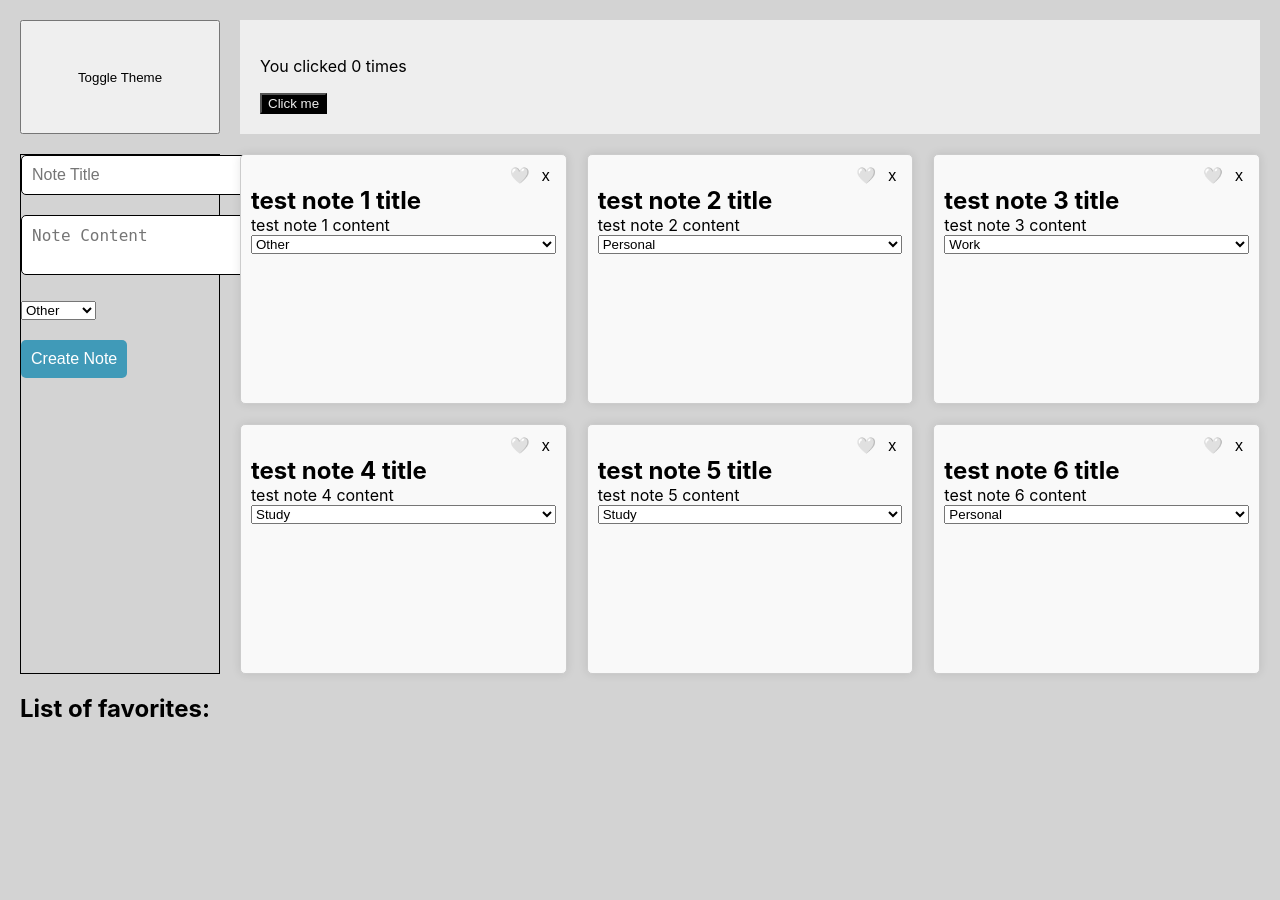
Test case: Update and Delete Notes › deletes a note
The width and height of the screenshot is (1280, 900).
In the field with placeholder "Note Title": (136, 175) [21, 155, 250, 195], type "New Note"
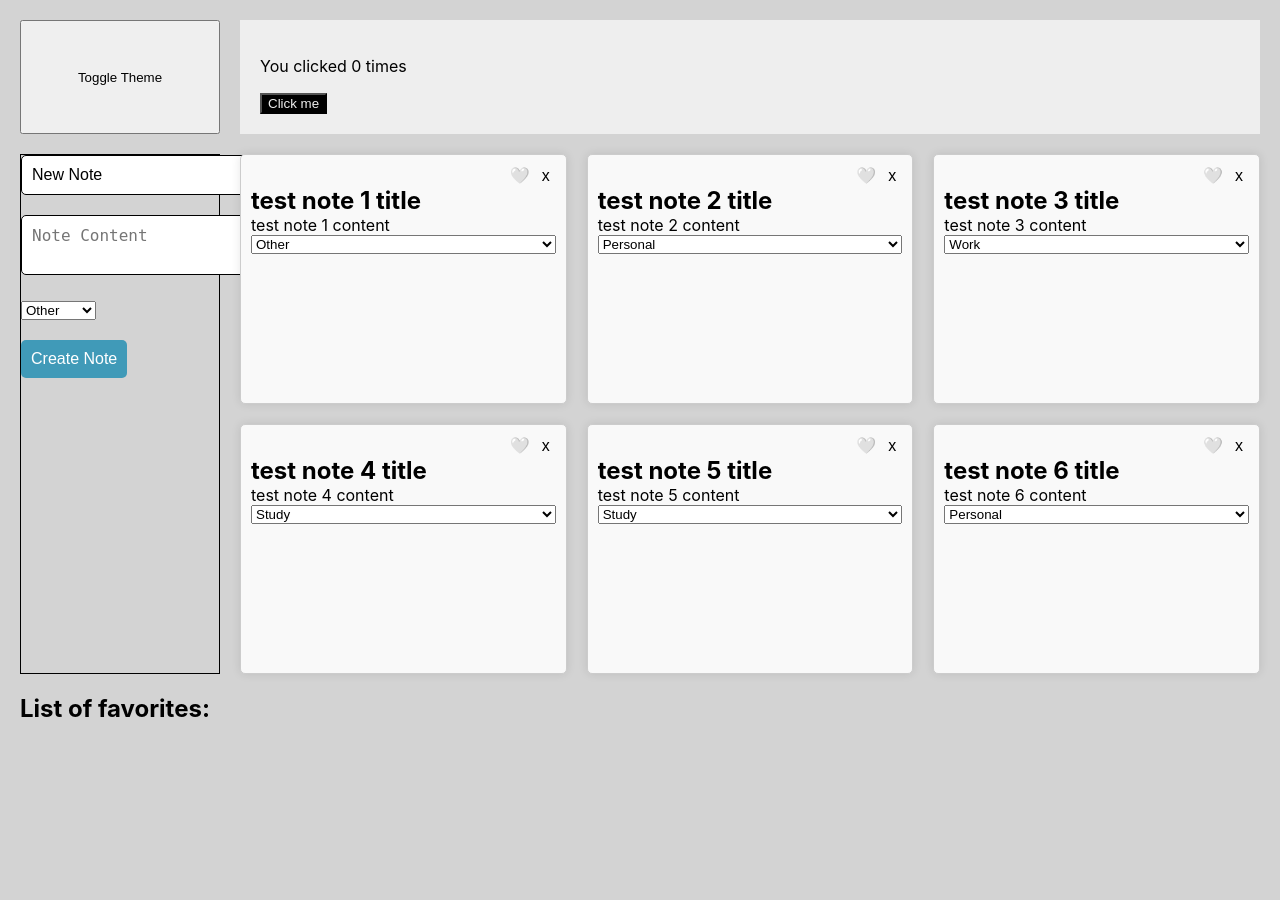
In the text box with placeholder "Note Content": (140, 245) [21, 215, 258, 275], type "Note content"
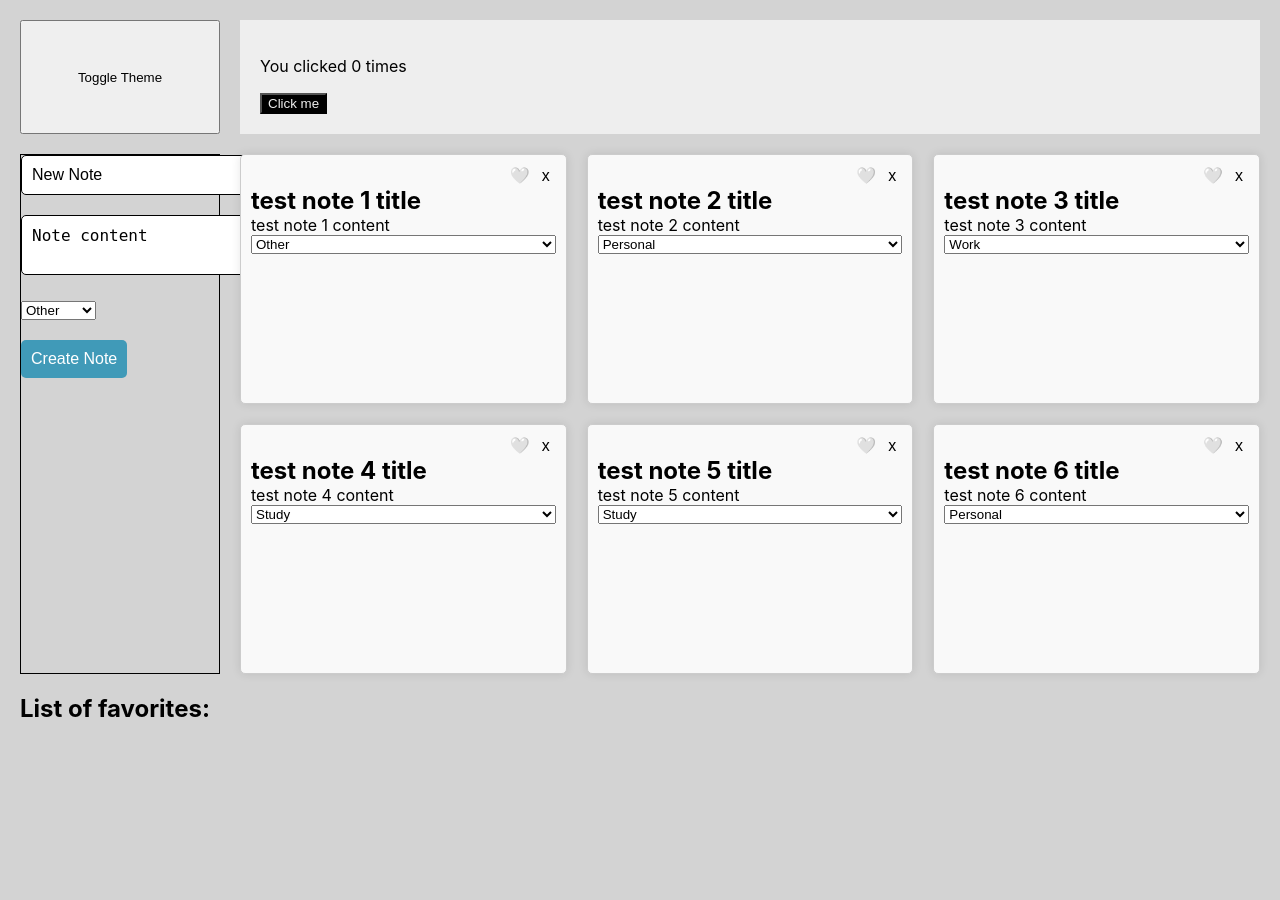
Click the button "Create Note": (74, 359) [21, 340, 127, 378]
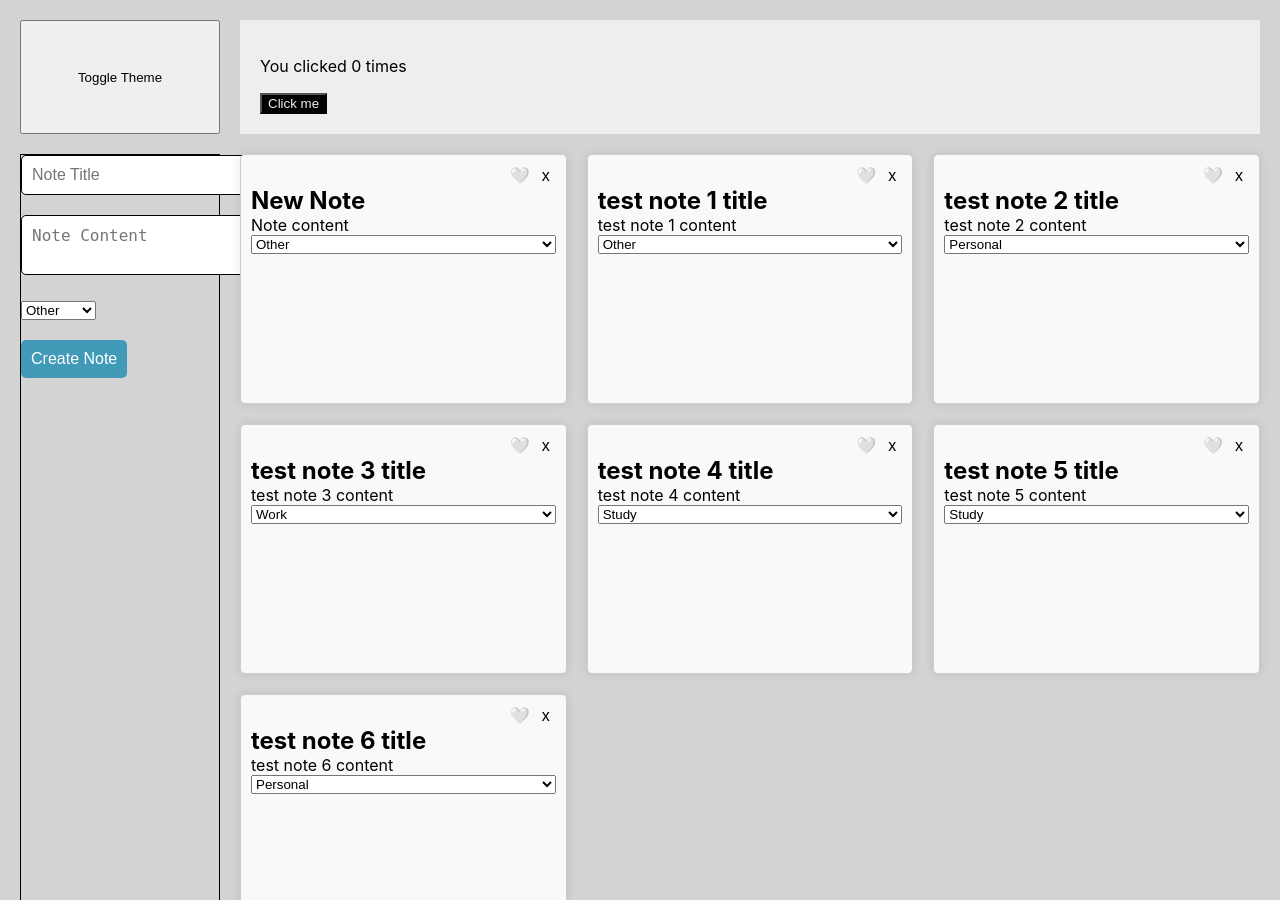
Click the button with test id "remove-button-7": (546, 176) [536, 165, 556, 186]
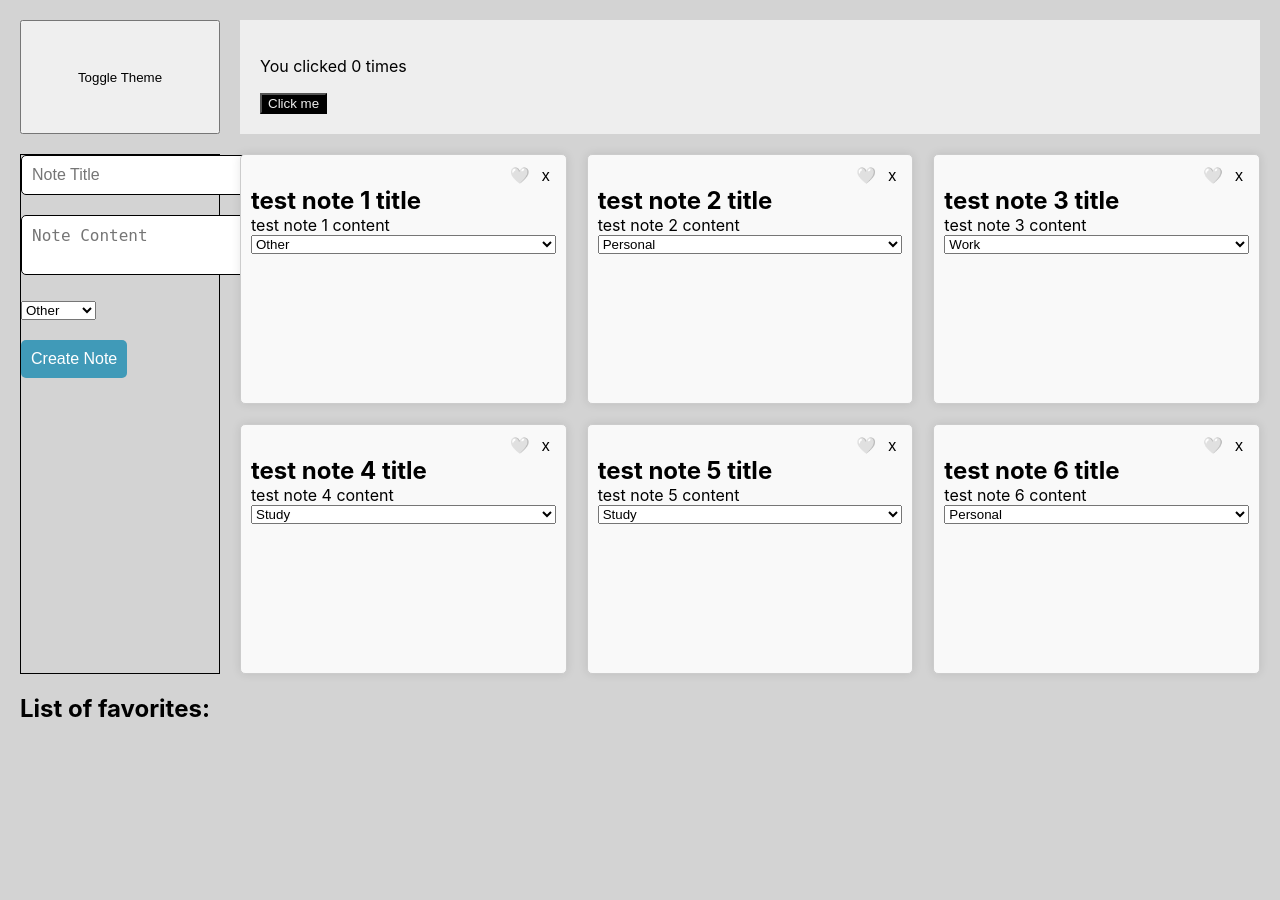
Expected: the heading "New Note" is gone
